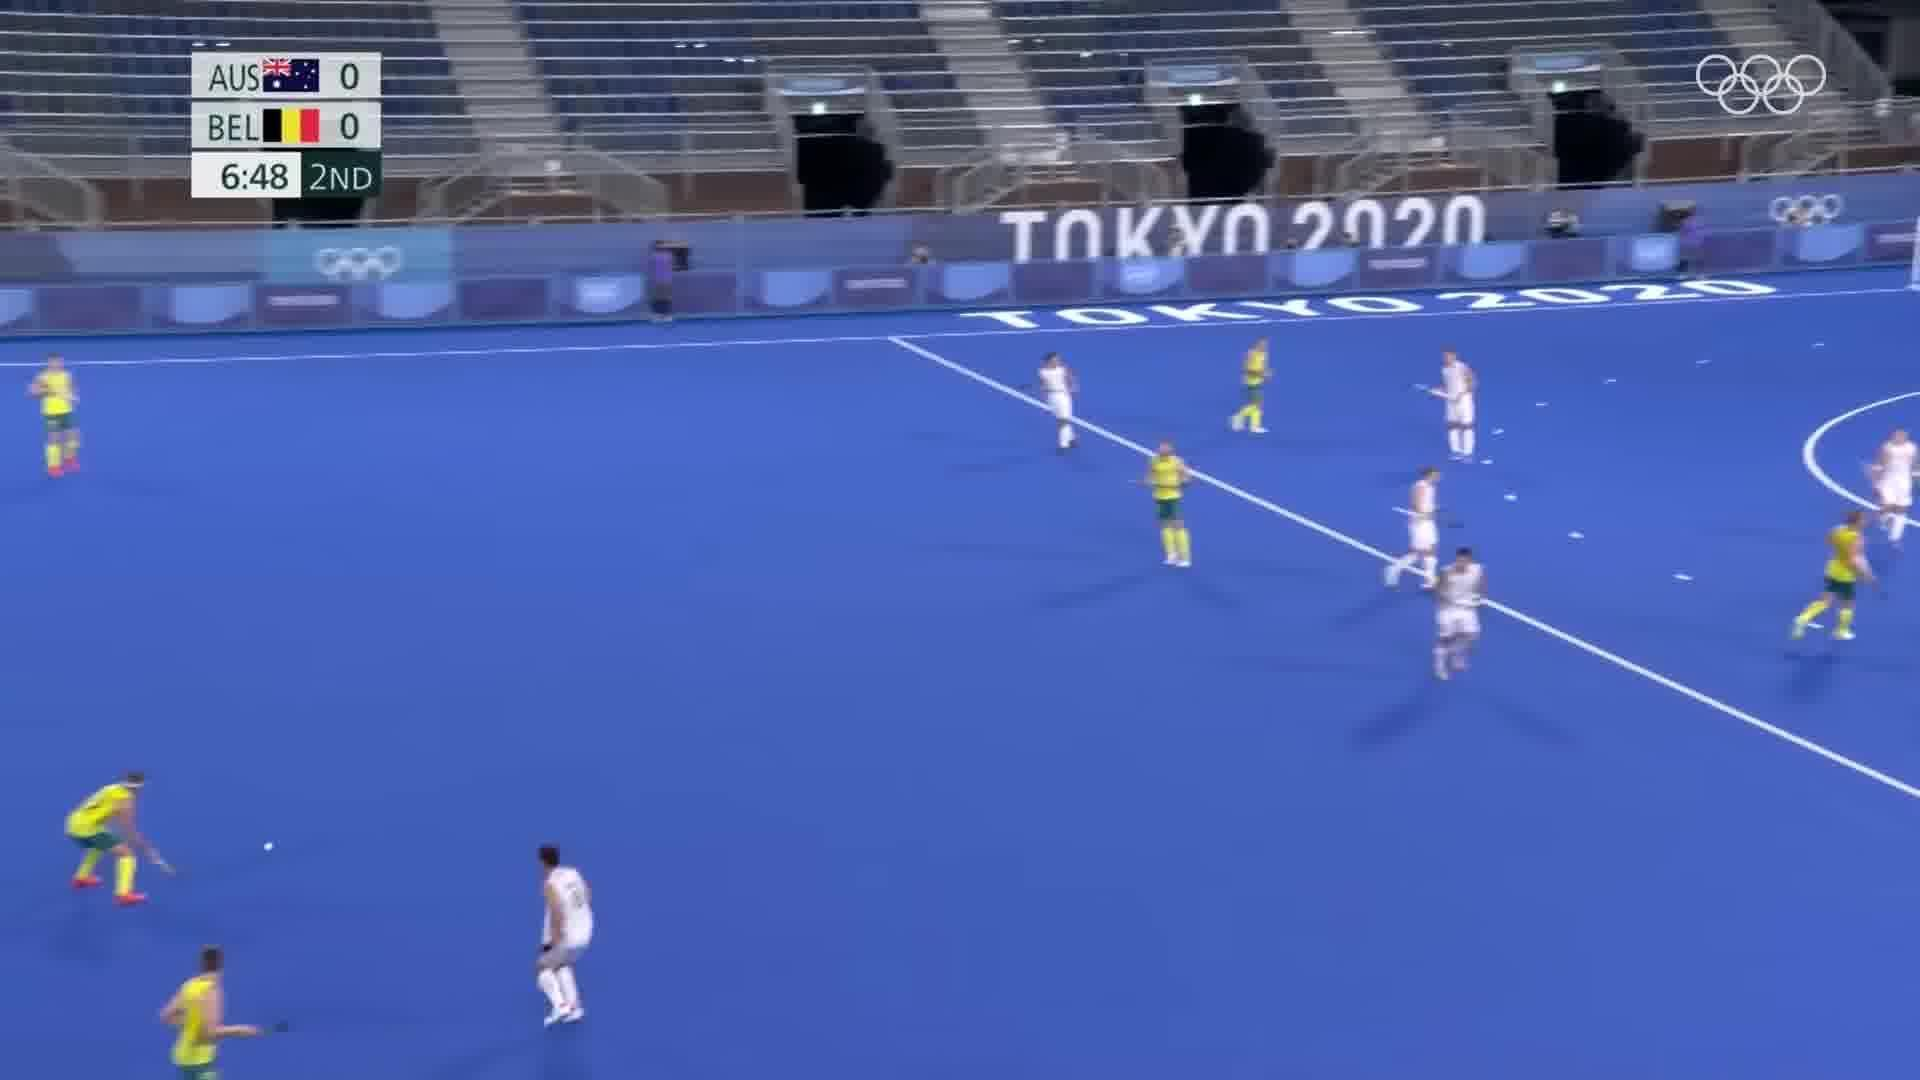ball: (258, 836, 281, 855)
